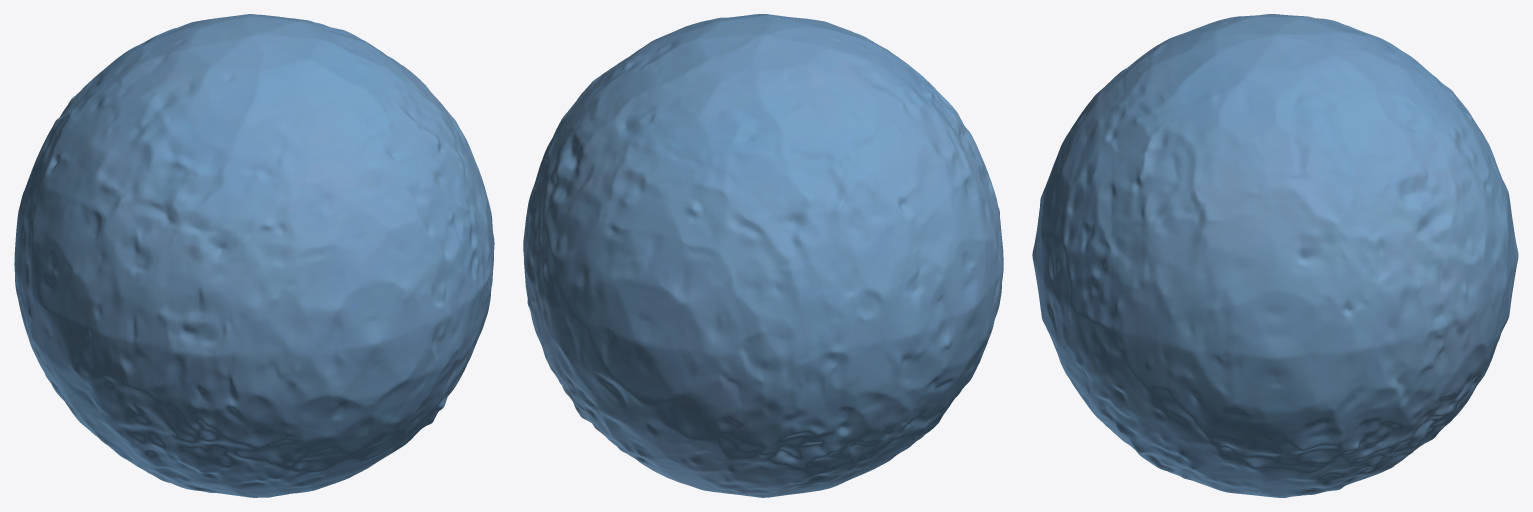
Rendered from detailed_realistic_model_crystalball_14.glb.
3 renders of one model, left to right at view 1: azimuth 30°, elevation 25°; view 2: azimuth 150°, elevation 25°; view 3: azimuth 270°, elevation 25°, orthographic.
Parts seen in each view (by area): view 1: tripo_node_a3f809d8-77de-4cd2-9b6c-5c90e995c738; view 2: tripo_node_a3f809d8-77de-4cd2-9b6c-5c90e995c738; view 3: tripo_node_a3f809d8-77de-4cd2-9b6c-5c90e995c738.
Part boxes in pixels (x1,y1,x2,y2): tripo_node_a3f809d8-77de-4cd2-9b6c-5c90e995c738: (14,14,494,497); tripo_node_a3f809d8-77de-4cd2-9b6c-5c90e995c738: (523,14,1003,497); tripo_node_a3f809d8-77de-4cd2-9b6c-5c90e995c738: (1032,14,1518,497).
Bounding box in the file's own units: 1 × 0.9994 × 0.9984.
Materials: 1 (1 with a texture image).
